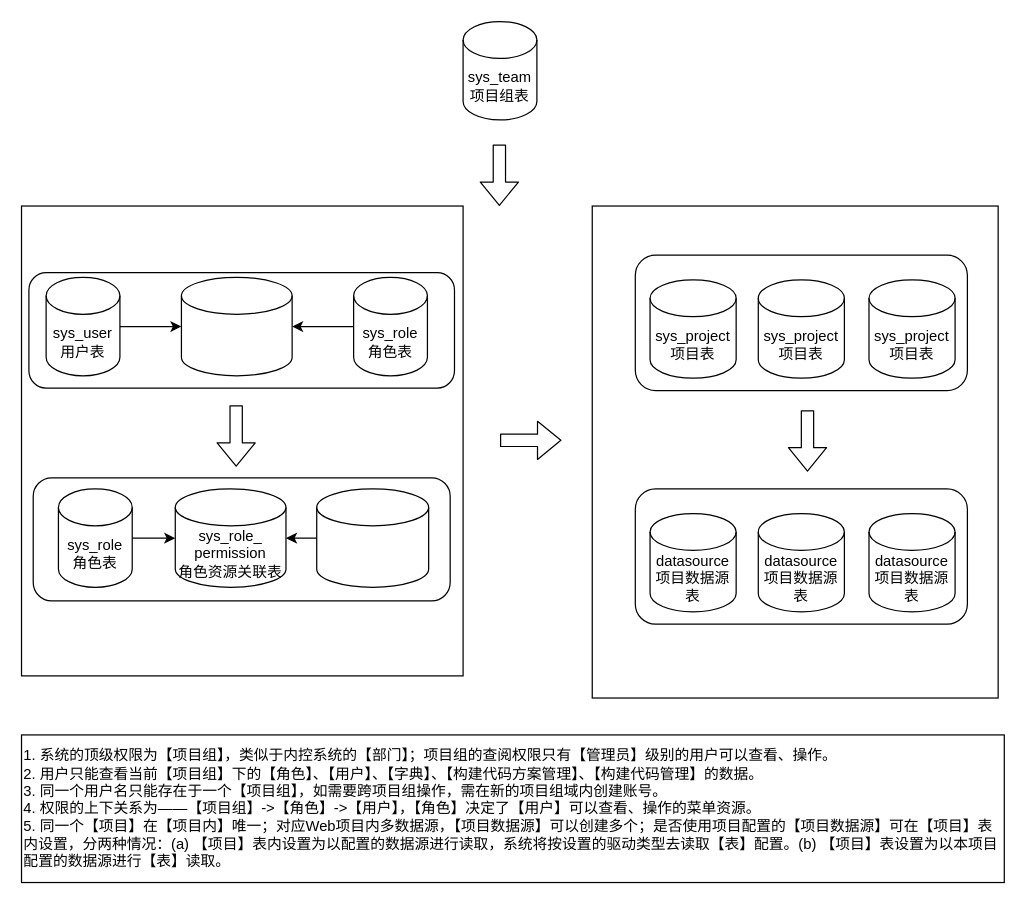
The diagram is 1026 pixels wide and 904 high, and some of its shapes have lost their labels. Each missing label, with the centre of its shape:
"sys_permission 资源表" belongs at [372,537].
"sys_user_role 用户角色关联表" belongs at [236,326].
